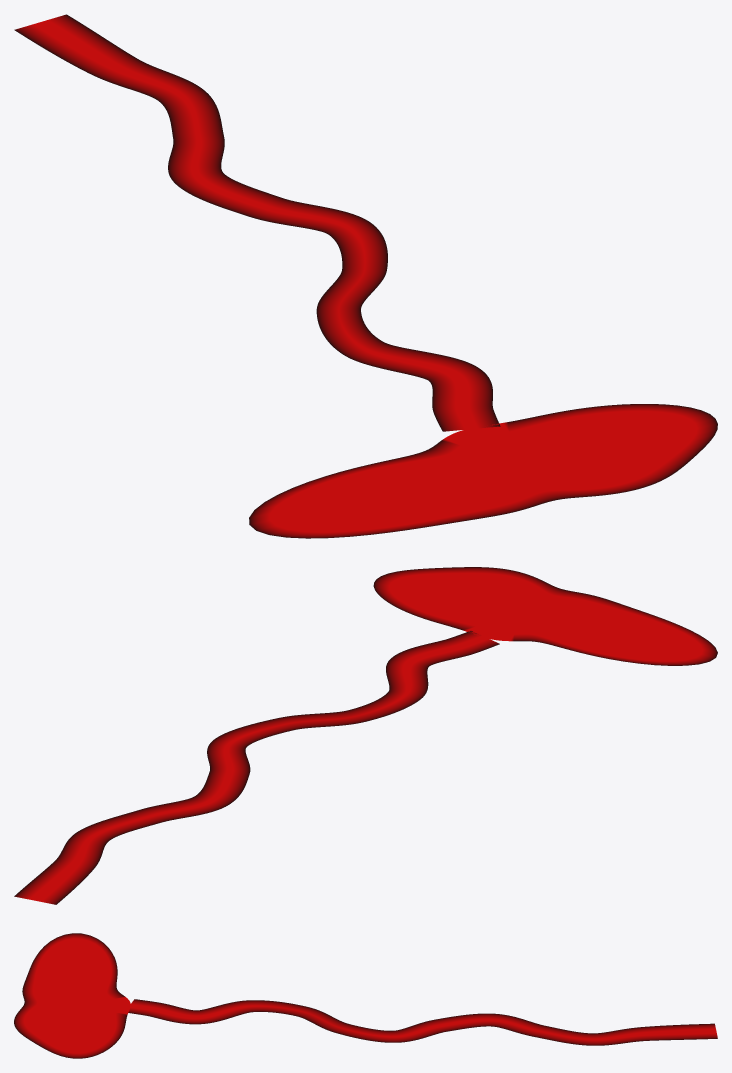
The model's file is enfeite_agua_do_mundo.glb.
3 views of the same model, one above another, from view 1: azimuth 30°, elevation 25°; view 2: azimuth 150°, elevation 25°; view 3: azimuth 270°, elevation 25° (orthographic). The views are drawn at different scales.
Visible parts, largest first — view 1: enfeite_agua_do_mundo; view 2: enfeite_agua_do_mundo; view 3: enfeite_agua_do_mundo.
Boxes of the visible parts, <box> form: enfeite_agua_do_mundo: <box>14,14,717,538</box>; enfeite_agua_do_mundo: <box>14,567,717,904</box>; enfeite_agua_do_mundo: <box>14,933,717,1058</box>.
Bounding box in the file's own units: 45.26 × 0 × 107.
